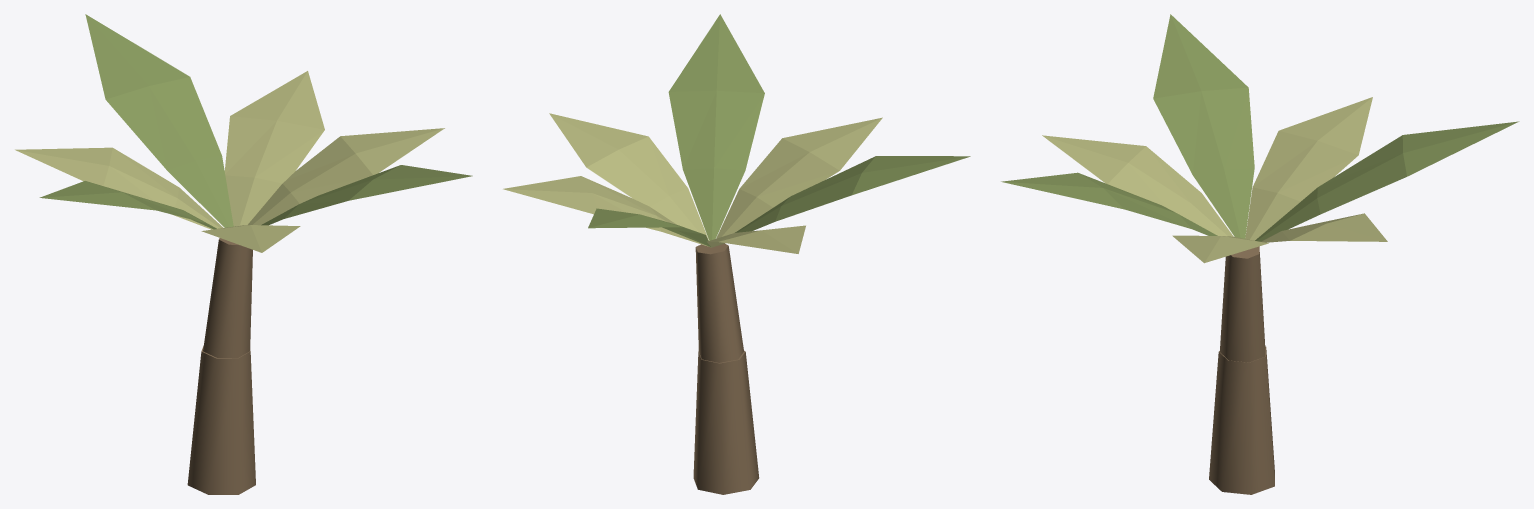
Rendered from tree-yucca.glb.
The picture shows the model from 3 angles, left to right: view 1: azimuth 30°, elevation 25°; view 2: azimuth 150°, elevation 25°; view 3: azimuth 270°, elevation 25°; orthographic projection. The views are drawn at different scales.
Visible parts, largest first — view 1: frond-7, frond-8, root-stem, frond-2, frond-6, stem-1, frond-3, frond-5, frond-4; view 2: frond-3, root-stem, frond-2, frond-4, stem-1, frond-5, frond-8, frond-6, frond-7; view 3: frond-5, frond-6, root-stem, frond-7, frond-4, stem-1, frond-3, frond-8, frond-2.
Boxes of the visible parts, x1,y1,x2,y2 form: frond-7: (85,14,233,227); frond-8: (224,71,324,226); root-stem: (187,346,255,494); frond-2: (247,128,444,225); frond-6: (15,147,223,229); stem-1: (203,238,252,357); frond-3: (261,165,472,225); frond-5: (39,181,216,229); frond-4: (201,225,300,252); frond-3: (668,14,764,240); root-stem: (693,350,759,494); frond-2: (549,113,708,240); frond-4: (716,117,882,238); stem-1: (695,243,743,362); frond-5: (735,156,970,232); frond-8: (503,176,709,246); frond-6: (707,225,805,253); frond-7: (588,208,711,247); frond-5: (1153,14,1254,238); frond-6: (1245,97,1372,240); root-stem: (1209,346,1274,494); frond-7: (1255,121,1519,241); frond-4: (1042,135,1233,236); stem-1: (1219,246,1265,362); frond-3: (1001,172,1217,235); frond-8: (1261,213,1387,242); frond-2: (1172,235,1268,263).
Size of the model in its own units: 3.33 by 2.75 by 3.58.
